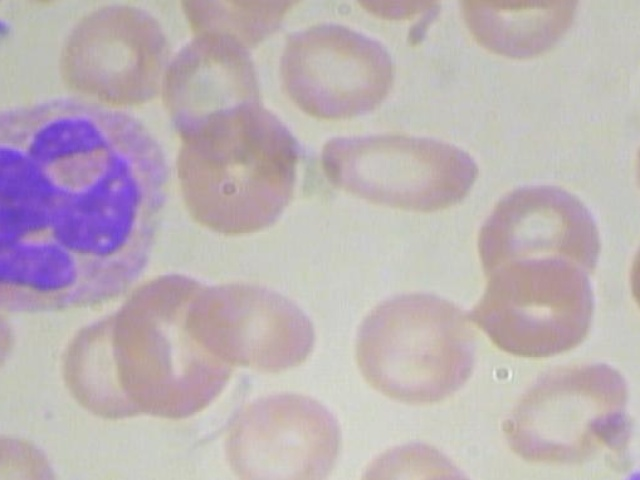Platelets: (0, 4, 18, 40), (611, 463, 640, 480)
RBC: (490, 345, 640, 468), (307, 121, 497, 217), (462, 247, 610, 366), (348, 283, 483, 409), (265, 17, 418, 123), (48, 0, 180, 119), (176, 281, 335, 376), (217, 383, 349, 480), (0, 422, 76, 480), (622, 110, 640, 242), (626, 206, 640, 338), (379, 468, 507, 480)
WBC: (0, 97, 179, 329)
